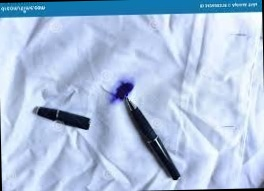ink: (110, 79, 133, 100)
